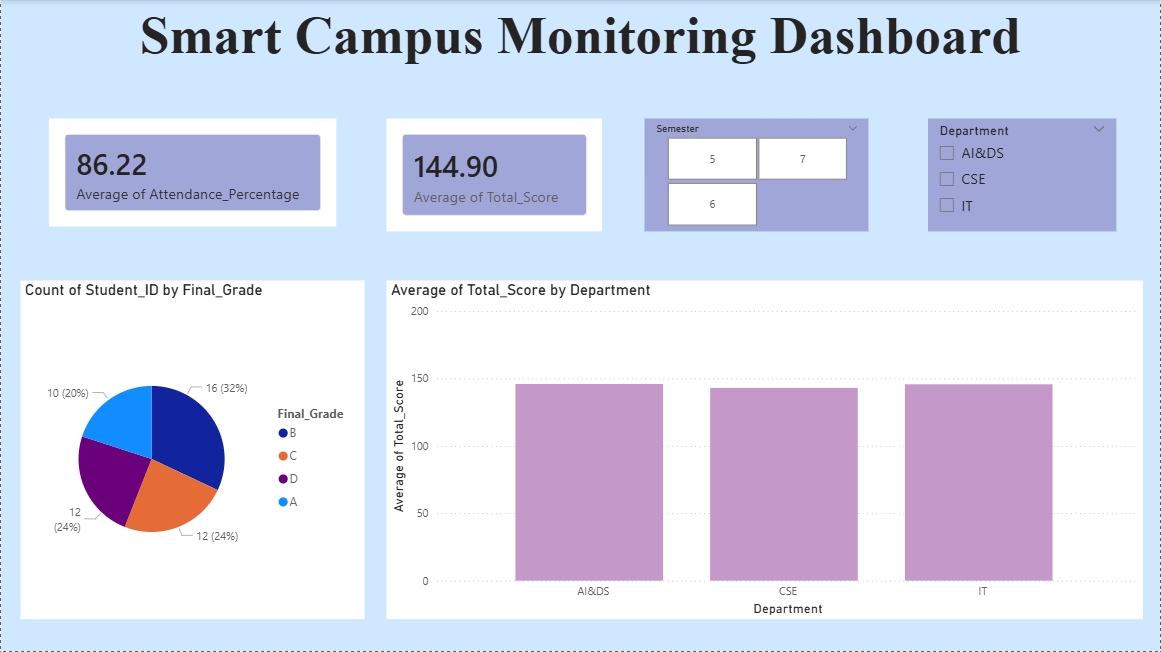

Layout of this report page (visuals, bound fields, positions):
{"tool":"powerbi","page":{"name":"Page 1","canvas":[1280,720],"ordinal":0},"visuals":[{"type":"textbox","box":[0,0,1279.4,90.7],"z":0},{"type":"cardVisual","fields":{"Data":["Avg(student_performance.Attendance_Percentage)"]},"box":[52.9,130.4,317.5,119.1],"z":1000},{"type":"cardVisual","fields":{"Data":["Avg(student_performance.Total_Score)"]},"box":[425.2,130.4,238.1,124.7],"z":2000},{"type":"slicer","fields":{"Values":["student_performance.Department"]},"box":[1024.3,130.4,207.9,124.7],"z":3000},{"type":"slicer","fields":{"Values":["student_performance.Semester"]},"box":[710.6,130.4,247.6,124.7],"z":4000},{"type":"clusteredColumnChart","fields":{"Y":["Avg(student_performance.Total_Score)"],"Category":["student_performance.Department","student_performance.Semester","student_performance.Subject"]},"box":[425.2,309.9,835.3,374.2],"z":5000},{"type":"pieChart","fields":{"Category":["student_performance.Final_Grade"],"Y":["CountNonNull(student_performance.Student_ID)"]},"box":[20.8,309.9,379.8,374.2],"z":6000}]}

Visuals, with their boxes in screenshot pixels (x1, y1, x2, y2), scaled from the page's 1280x720 canvas onto the 1161x652 screenshot:
textbox: 0/0/1160/82
cardVisual - Avg(student_performance.Attendance_Percentage): 48/118/336/226
cardVisual - Avg(student_performance.Total_Score): 386/118/602/231
slicer - student_performance.Department: 929/118/1118/231
slicer - student_performance.Semester: 645/118/869/231
clusteredColumnChart - Avg(student_performance.Total_Score) x student_performance.Department: 386/281/1143/619
pieChart - student_performance.Final_Grade x CountNonNull(student_performance.Student_ID): 19/281/363/619
